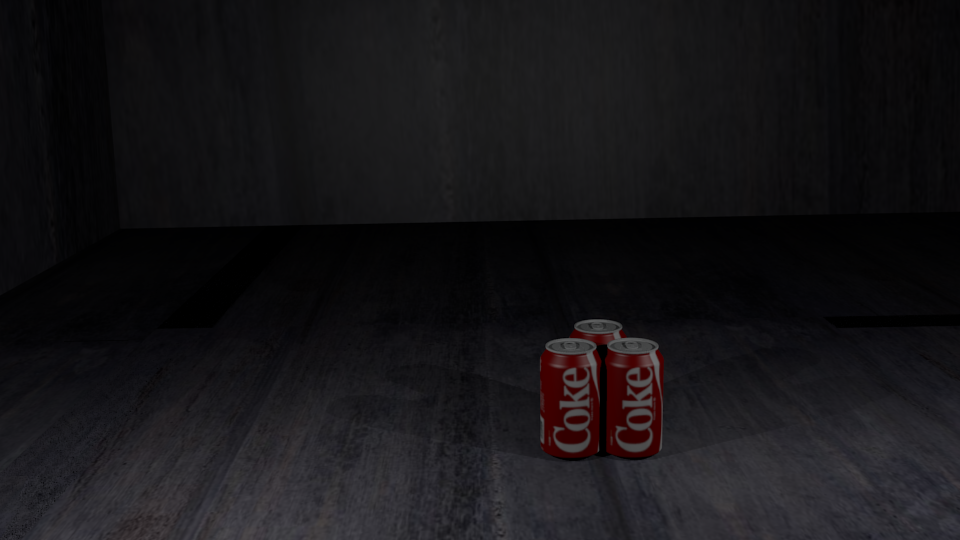cola_can: (540, 338, 601, 455), (602, 338, 663, 453), (570, 320, 626, 429)
